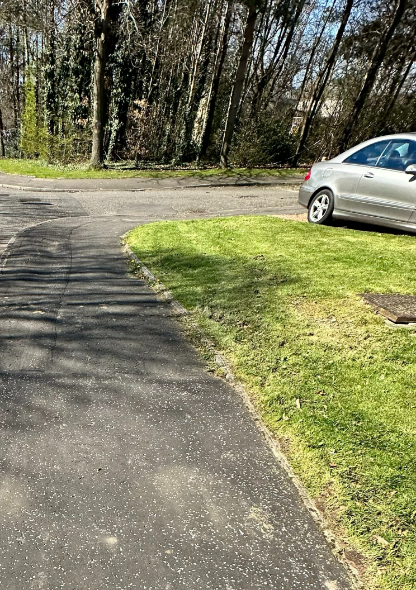car: (279, 123, 416, 241)
